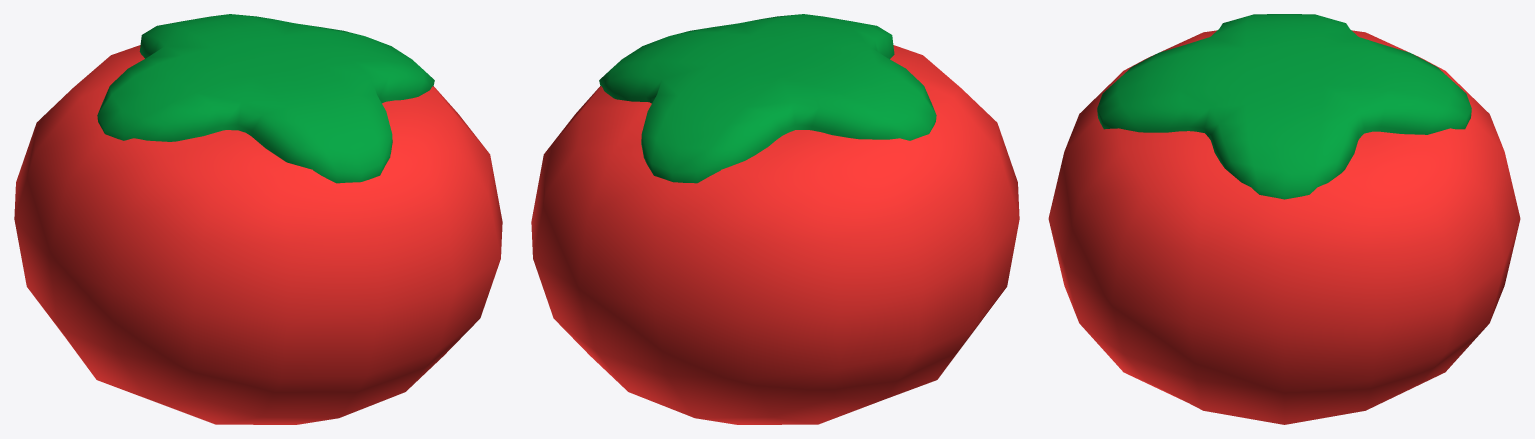
Rendered from Store_10_Tomato_1.glb.
The picture shows the model from 3 angles, left to right: view 1: azimuth 30°, elevation 25°; view 2: azimuth 150°, elevation 25°; view 3: azimuth 270°, elevation 25°; orthographic projection. The views are drawn at different scales.
Parts seen in each view (by area): view 1: Store_10_Tomato_1; view 2: Store_10_Tomato_1; view 3: Store_10_Tomato_1.
Boxes of the visible parts, box(x1,y1,x2,y2) form: Store_10_Tomato_1: box(14, 14, 502, 424); Store_10_Tomato_1: box(531, 14, 1019, 424); Store_10_Tomato_1: box(1048, 14, 1520, 424).
Size of the model in its own units: 0.2013 by 0.157 by 0.2017.
1 material, 1 textured.
